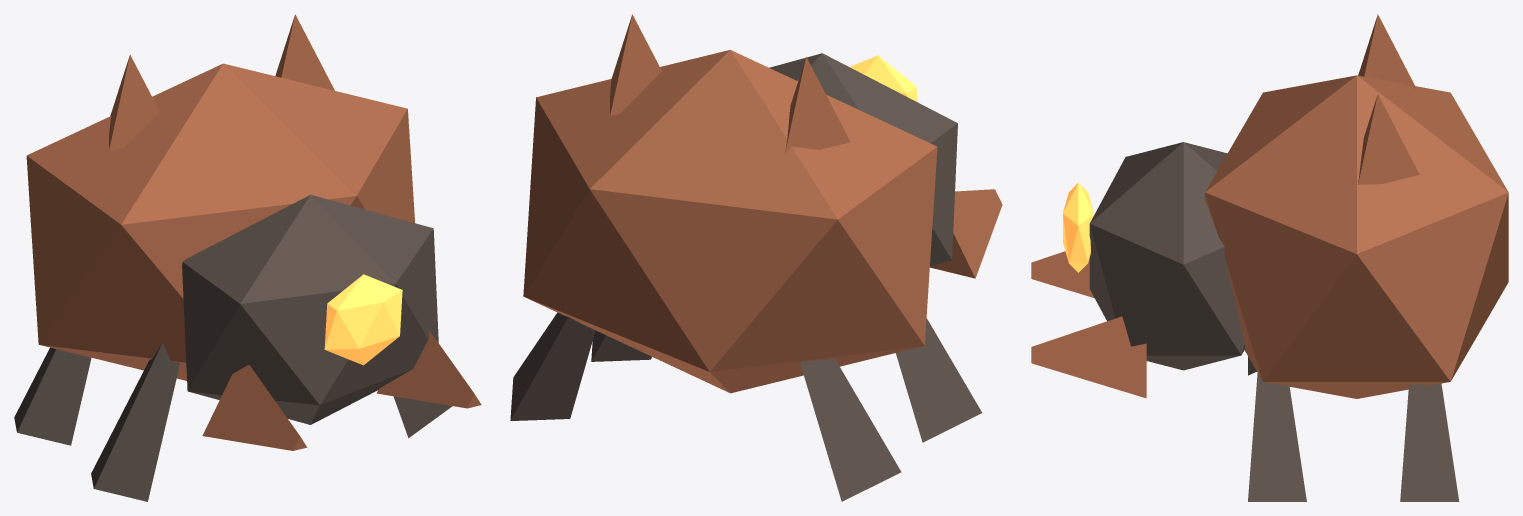
File: rust-eater-v02.glb
3 renders of one model, left to right at view 1: azimuth 30°, elevation 25°; view 2: azimuth 150°, elevation 25°; view 3: azimuth 270°, elevation 25°, orthographic. The views are drawn at different scales.
Parts seen in each view (by area): view 1: Rust eater shell, Rust eater head, Rust eater leg, Rust eater eye, Rust eater leg.001, Rust eater claw, Rust eater claw.001, Rust eater spike, Rust eater spike.001, Rust eater leg.002; view 2: Rust eater shell, Rust eater head, Rust eater leg.001, Rust eater leg.003, Rust eater leg, Rust eater claw, Rust eater spike, Rust eater spike.001, Rust eater eye, Rust eater leg.002; view 3: Rust eater shell, Rust eater head, Rust eater claw.001, Rust eater leg.002, Rust eater leg.003, Rust eater spike.001, Rust eater eye, Rust eater spike, Rust eater claw.
Part boxes in pixels (x1=…): Rust eater shell: x1=26, y1=63, x2=414, y2=380; Rust eater head: x1=182, y1=194, x2=438, y2=424; Rust eater leg: x1=91, y1=343, x2=179, y2=501; Rust eater eye: x1=324, y1=274, x2=402, y2=365; Rust eater leg.001: x1=14, y1=347, x2=91, y2=445; Rust eater claw: x1=202, y1=365, x2=307, y2=450; Rust eater claw.001: x1=376, y1=329, x2=481, y2=408; Rust eater spike: x1=109, y1=54, x2=159, y2=151; Rust eater spike.001: x1=275, y1=14, x2=334, y2=90; Rust eater leg.002: x1=393, y1=396, x2=452, y2=438; Rust eater shell: x1=523, y1=50, x2=937, y2=393; Rust eater head: x1=769, y1=53, x2=957, y2=266; Rust eater leg.001: x1=800, y1=358, x2=901, y2=501; Rust eater leg.003: x1=510, y1=312, x2=595, y2=420; Rust eater leg: x1=896, y1=318, x2=981, y2=442; Rust eater claw: x1=930, y1=189, x2=1002, y2=278; Rust eater spike: x1=785, y1=57, x2=850, y2=152; Rust eater spike.001: x1=610, y1=14, x2=661, y2=115; Rust eater eye: x1=849, y1=55, x2=917, y2=101; Rust eater leg.002: x1=591, y1=330, x2=651, y2=361; Rust eater shell: x1=1205, y1=75, x2=1508, y2=398; Rust eater head: x1=1089, y1=142, x2=1244, y2=370; Rust eater claw.001: x1=1031, y1=316, x2=1146, y2=398; Rust eater leg.002: x1=1248, y1=373, x2=1306, y2=501; Rust eater leg.003: x1=1400, y1=383, x2=1459, y2=501; Rust eater spike.001: x1=1358, y1=94, x2=1419, y2=184; Rust eater eye: x1=1063, y1=182, x2=1093, y2=272; Rust eater spike: x1=1358, y1=14, x2=1417, y2=90; Rust eater claw: x1=1031, y1=251, x2=1094, y2=298.
Size of the model in its own units: 0.805 by 0.8084 by 0.9092.
